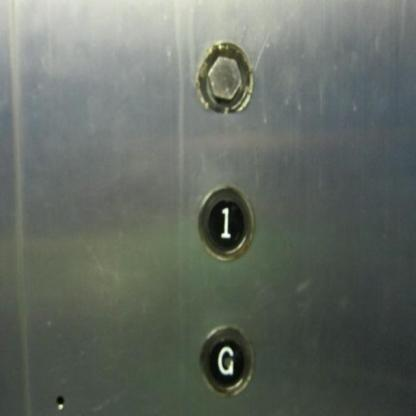1: (194, 181, 256, 264)
G: (198, 321, 254, 398)
unknown: (196, 39, 253, 115)
